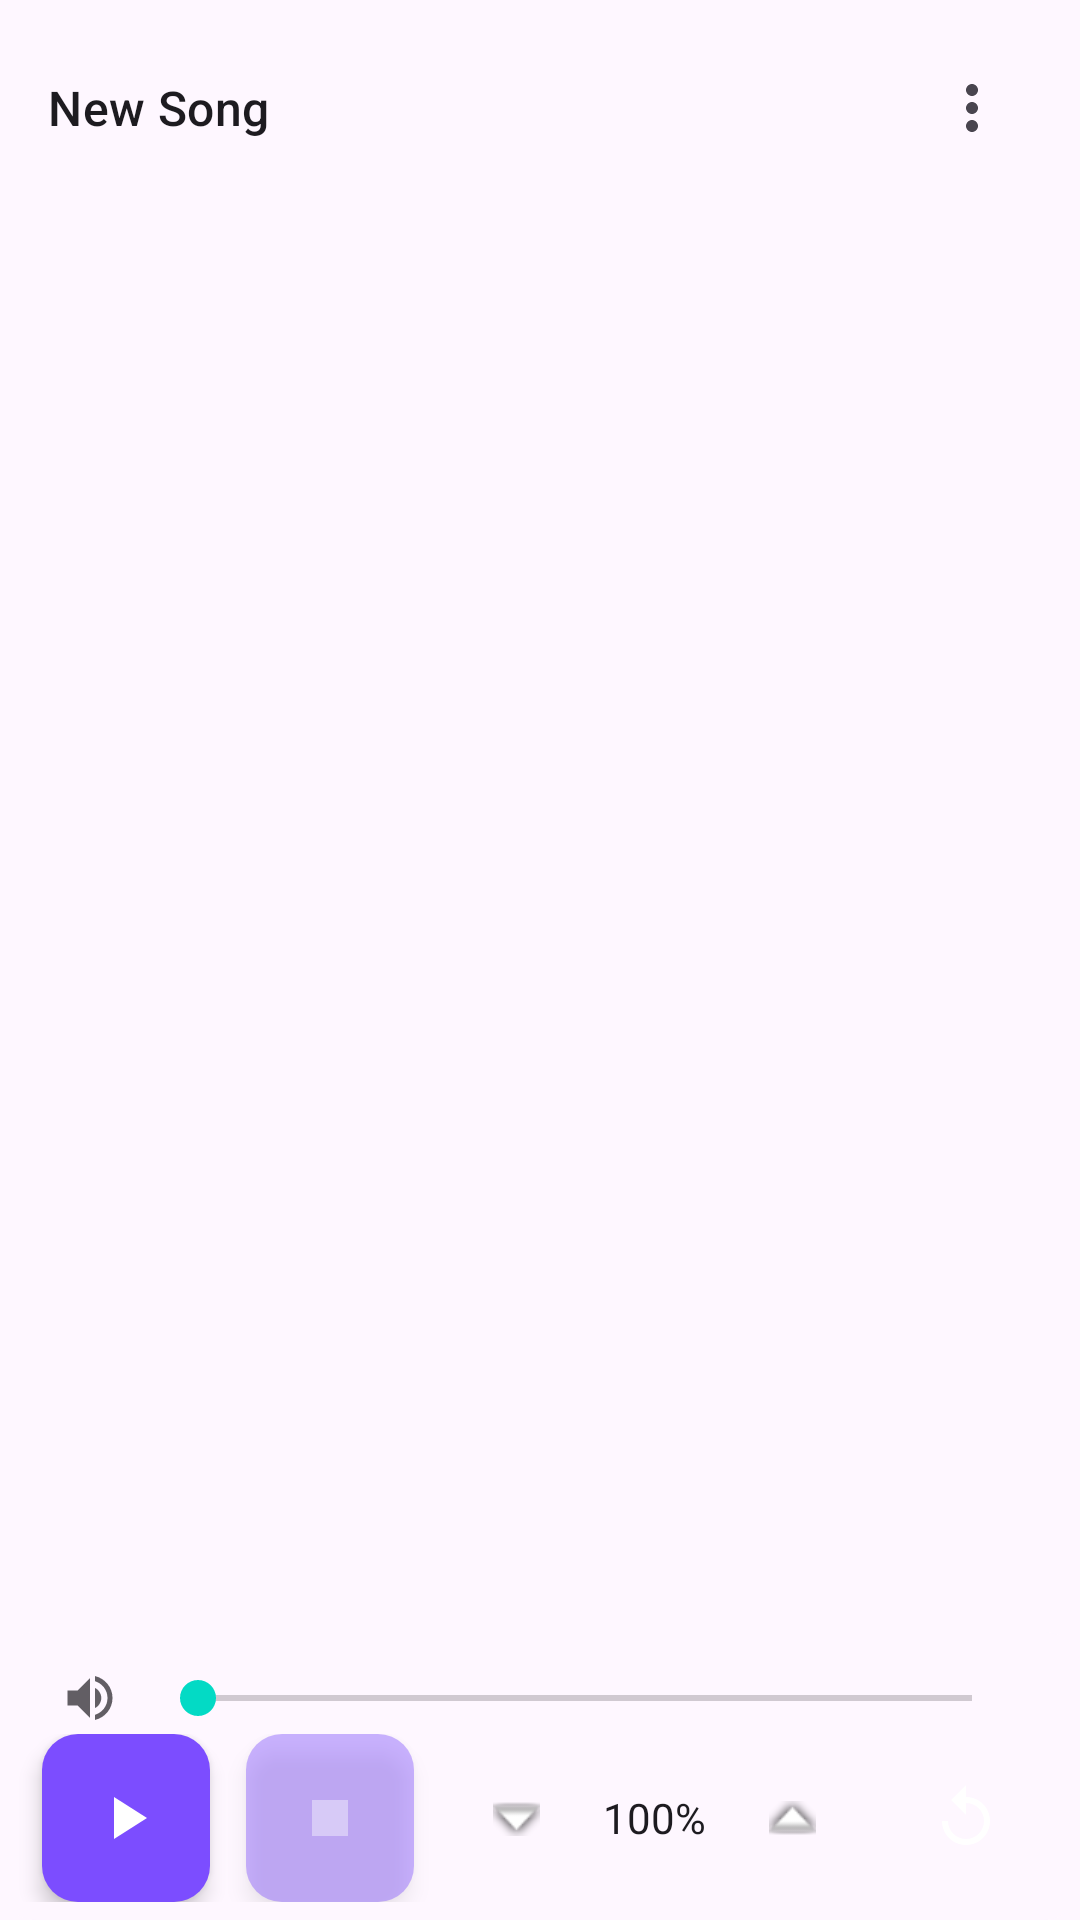

Icon bounding boxes for this 1080px x 1920px phone screenshot, format (x1, y1, x2, y2):
Decrease playback speed: (493, 1803, 540, 1835)
Increase playback speed: (769, 1802, 816, 1834)
Play or pause: (42, 1734, 210, 1902)
Section actions: (966, 84, 978, 132)
Stop playback: (246, 1734, 414, 1902)
Volume: (67, 1676, 113, 1720)
